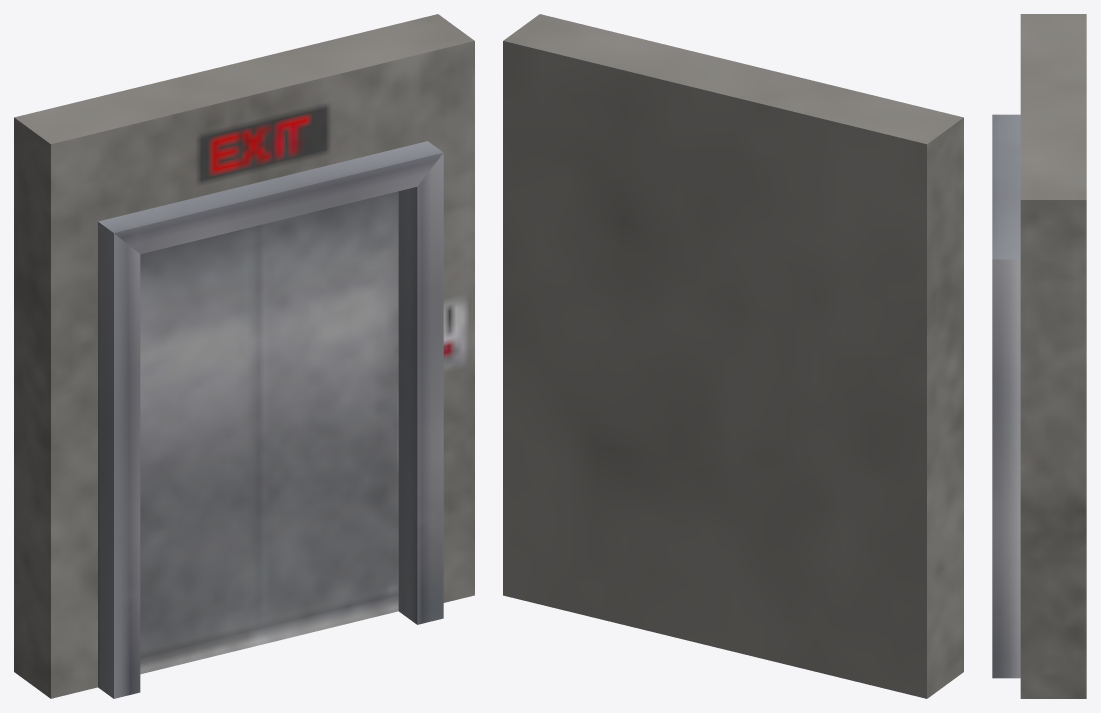
Rendered from SM_Elevator.glb.
3 views of the same model, side by side, from view 1: azimuth 30°, elevation 25°; view 2: azimuth 150°, elevation 25°; view 3: azimuth 270°, elevation 25° (orthographic). The views are drawn at different scales.
Visible parts, largest first — view 1: SM_Elevator; view 2: SM_Elevator; view 3: SM_Elevator.
Part boxes in pixels (x1,y1,x2,y2): SM_Elevator: (14,14,474,698); SM_Elevator: (503,14,963,698); SM_Elevator: (992,14,1086,698).
Size of the model in its own units: 2 by 2.5 by 0.4294.
1 material, 1 textured.
